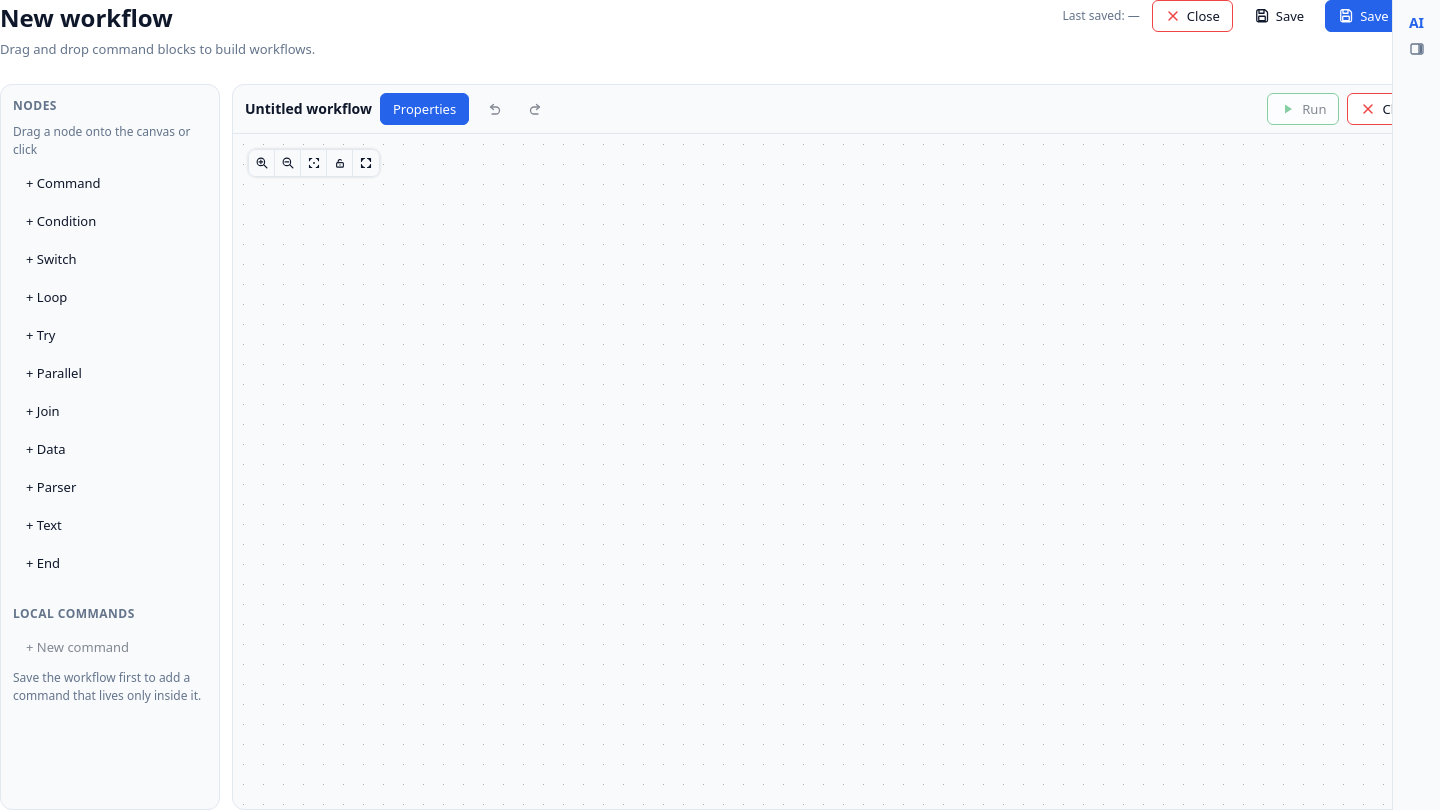
Editor shell › opens the details modal when saving a brand-new (unnamed) workflow
Click the button "Save". click: point(1279, 16)
box: [1241,0,1317,32]
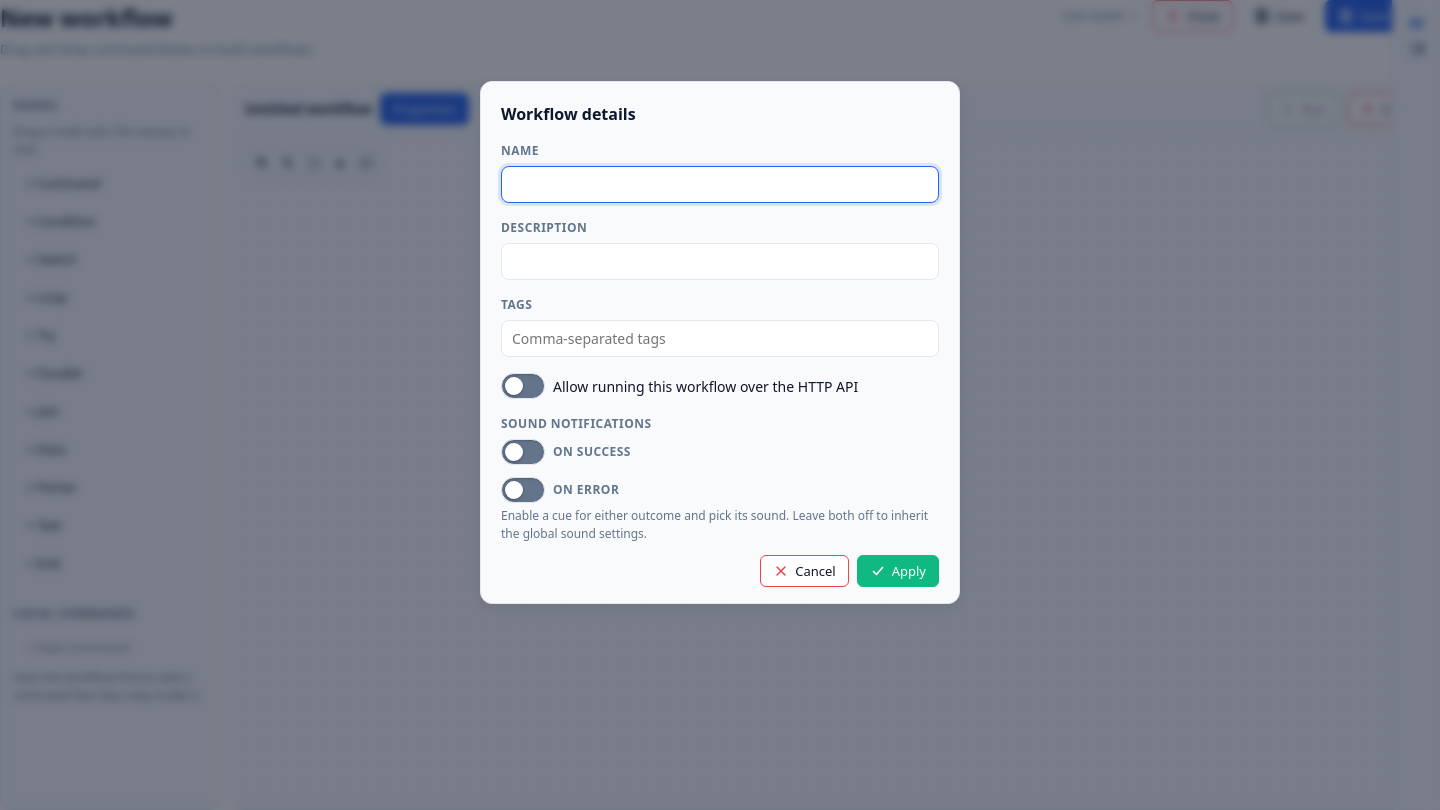
Now the heading "Workflow details" is shown, box [501,103,636,125]
